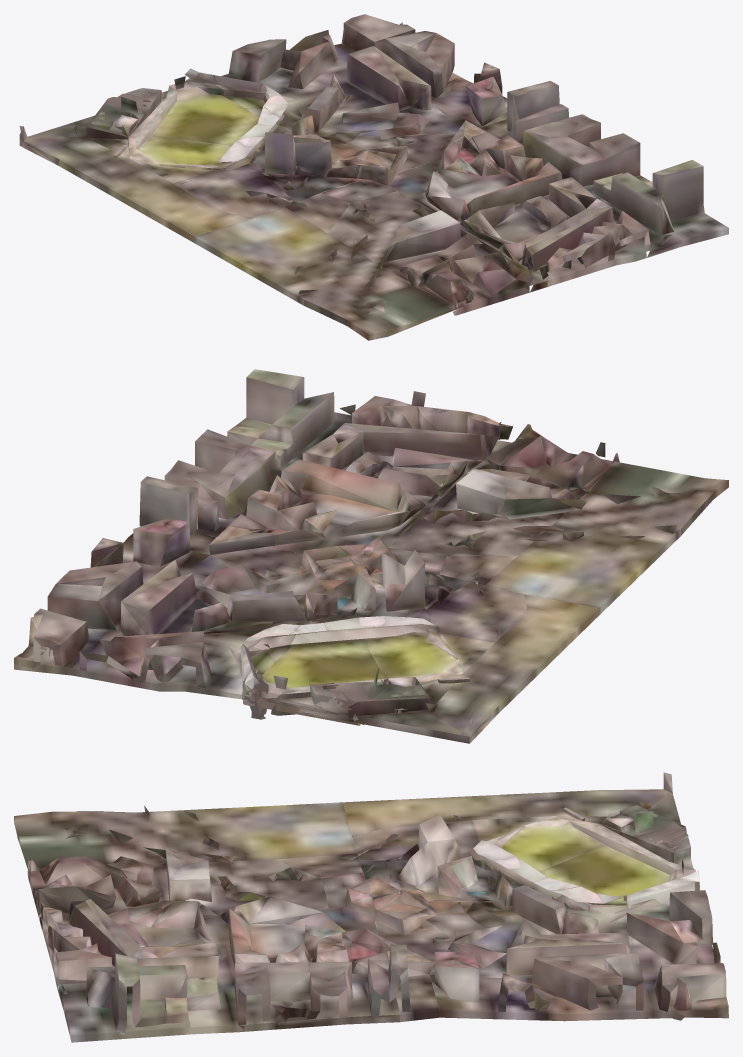
The picture shows the model from 3 angles, top to bottom: view 1: azimuth 30°, elevation 25°; view 2: azimuth 150°, elevation 25°; view 3: azimuth 270°, elevation 25°; orthographic projection. The views are drawn at different scales.
Parts seen in each view (by area): view 1: Mesh_0; view 2: Mesh_0; view 3: Mesh_0.
Part boxes in pixels (x1,y1,x2,y2): Mesh_0: (19,14,728,340); Mesh_0: (14,369,728,743); Mesh_0: (14,772,728,1042).
Bounding box in the file's own units: 539 × 76.68 × 659.
Materials: 2 (2 with a texture image).
